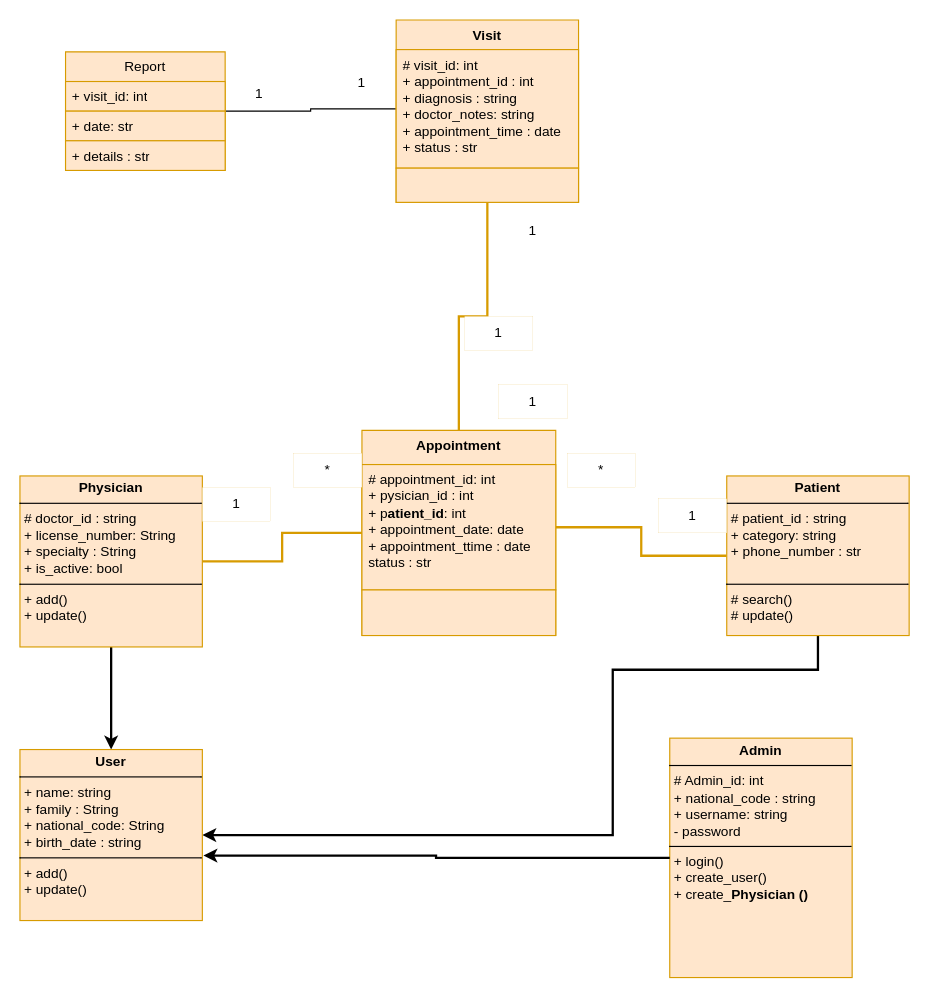
This 929x998 diagram has some shape labels left out. The centre of each missing label's shape, as x and y in pixels:
"+ create_report ()" goes at (487,184).
"+ crreate() + cancel ()" goes at (458,612).
